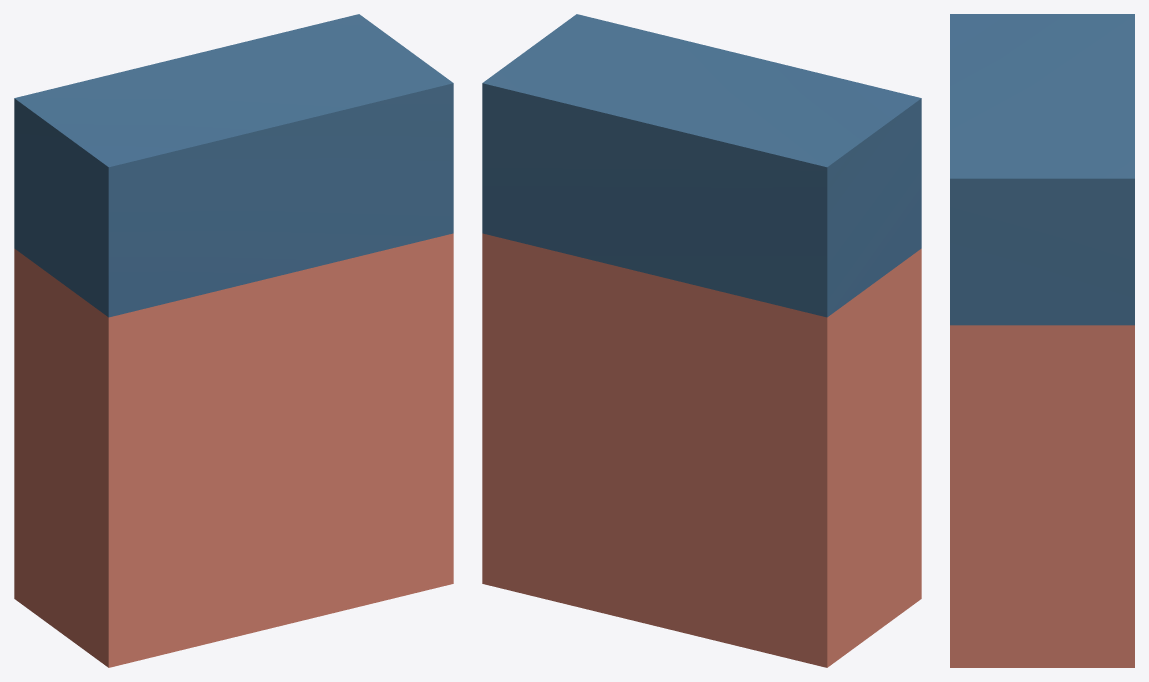
Rendered from Ürün46.fbx.
The picture shows the model from 3 angles, left to right: view 1: azimuth 30°, elevation 25°; view 2: azimuth 150°, elevation 25°; view 3: azimuth 270°, elevation 25°; orthographic projection. The views are drawn at different scales.
Visible parts, largest first — view 1: pCube86; view 2: pCube86; view 3: pCube86.
Boxes of the visible parts, x1,y1,x2,y2 form: pCube86: (14, 14, 453, 667); pCube86: (482, 14, 921, 667); pCube86: (950, 14, 1134, 667).
Bounding box in the file's own units: 23.51 × 32.6 × 11.16.
